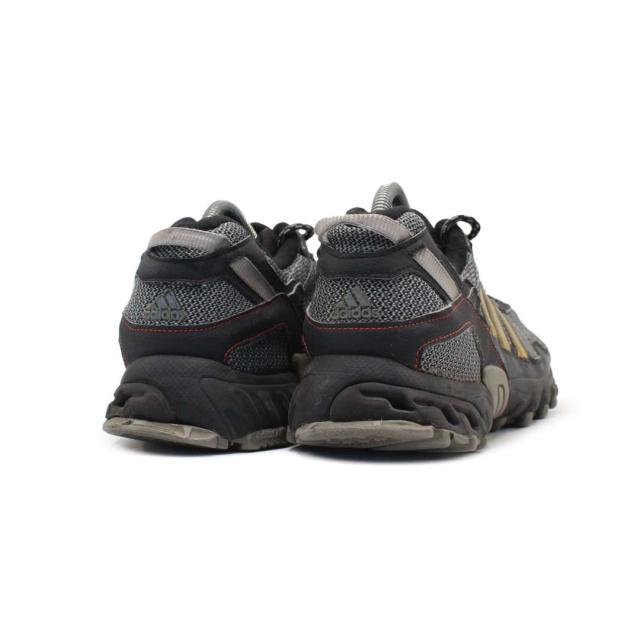heel: (306, 212, 487, 374), (117, 220, 288, 373)
midsole: (296, 353, 560, 451), (100, 358, 291, 454)
